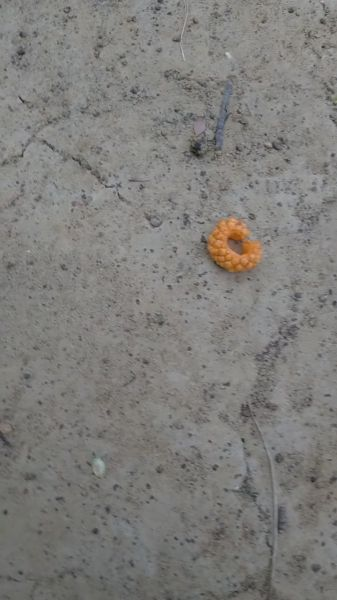eggs: (198, 208, 270, 280)
